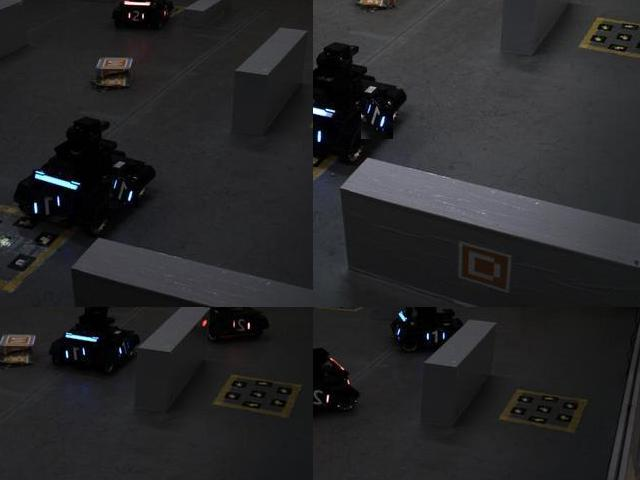armor: (361, 98, 394, 141), (31, 191, 70, 223), (109, 178, 139, 210), (61, 343, 93, 367), (229, 314, 257, 337), (422, 326, 450, 346), (112, 336, 134, 361), (313, 387, 333, 409), (122, 6, 147, 23), (313, 119, 325, 152)
